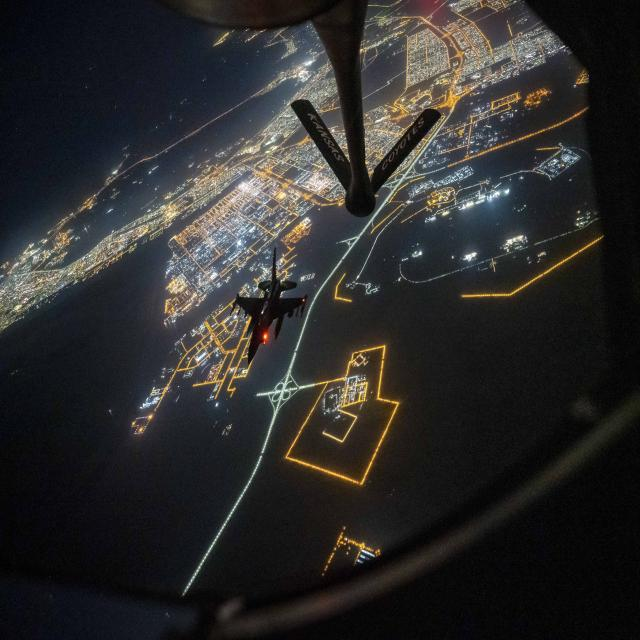MIL_Plane: (230, 246, 308, 369)
